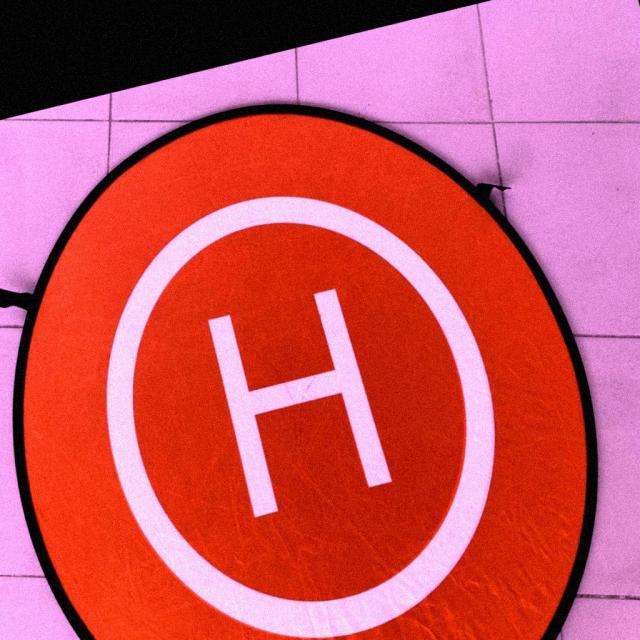helipad: (97, 190, 502, 640)
